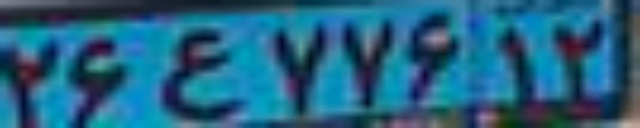1: (499, 26, 538, 103)
2: (0, 37, 53, 127), (551, 18, 604, 103)
6: (65, 36, 125, 127), (406, 13, 463, 103)
7: (337, 17, 397, 108), (271, 22, 324, 115)
ain: (156, 28, 244, 121)
